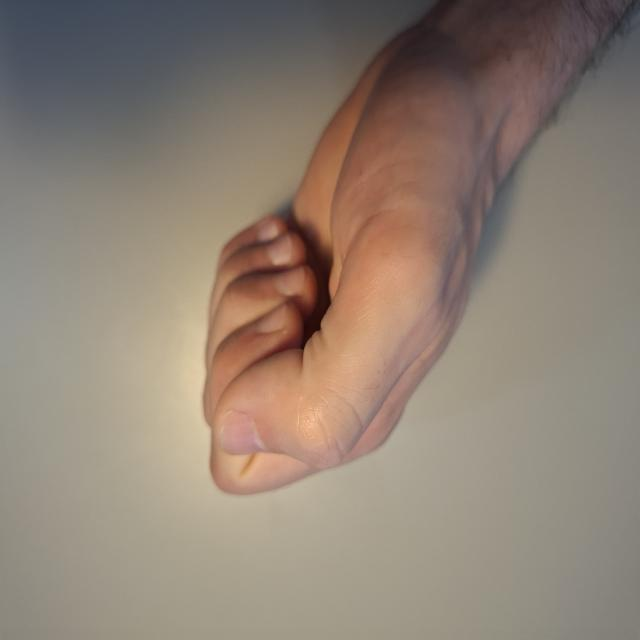glove_off: (200, 7, 520, 501)
